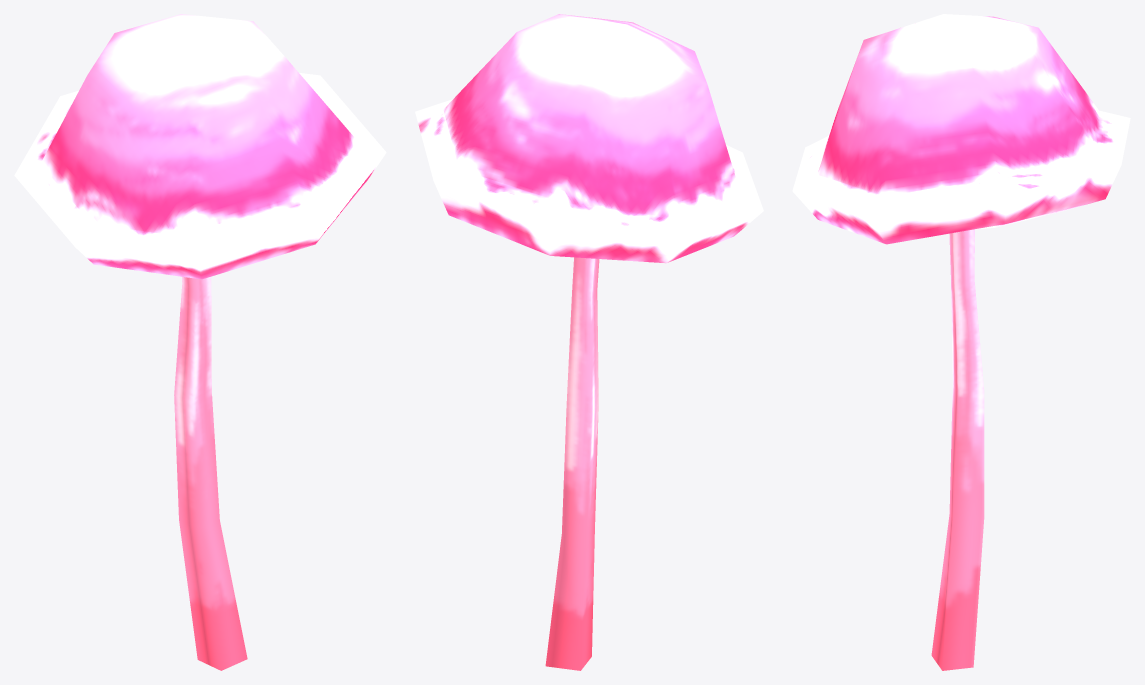
The model's file is SM_ENV_mushrooms_ancient_03_01.fbx.
The picture shows the model from 3 angles, left to right: view 1: azimuth 30°, elevation 25°; view 2: azimuth 150°, elevation 25°; view 3: azimuth 270°, elevation 25°; orthographic projection. The views are drawn at different scales.
Parts seen in each view (by area): view 1: SM_ENV_mushrooms_ancient_03_01_LOD0; view 2: SM_ENV_mushrooms_ancient_03_01_LOD0; view 3: SM_ENV_mushrooms_ancient_03_01_LOD0.
Part boxes in pixels (x1=…): SM_ENV_mushrooms_ancient_03_01_LOD0: x1=14, y1=14, x2=386, y2=670; SM_ENV_mushrooms_ancient_03_01_LOD0: x1=415, y1=14, x2=763, y2=670; SM_ENV_mushrooms_ancient_03_01_LOD0: x1=792, y1=14, x2=1130, y2=670.
Bounding box in the file's own units: 16.28 × 33.42 × 16.36.
